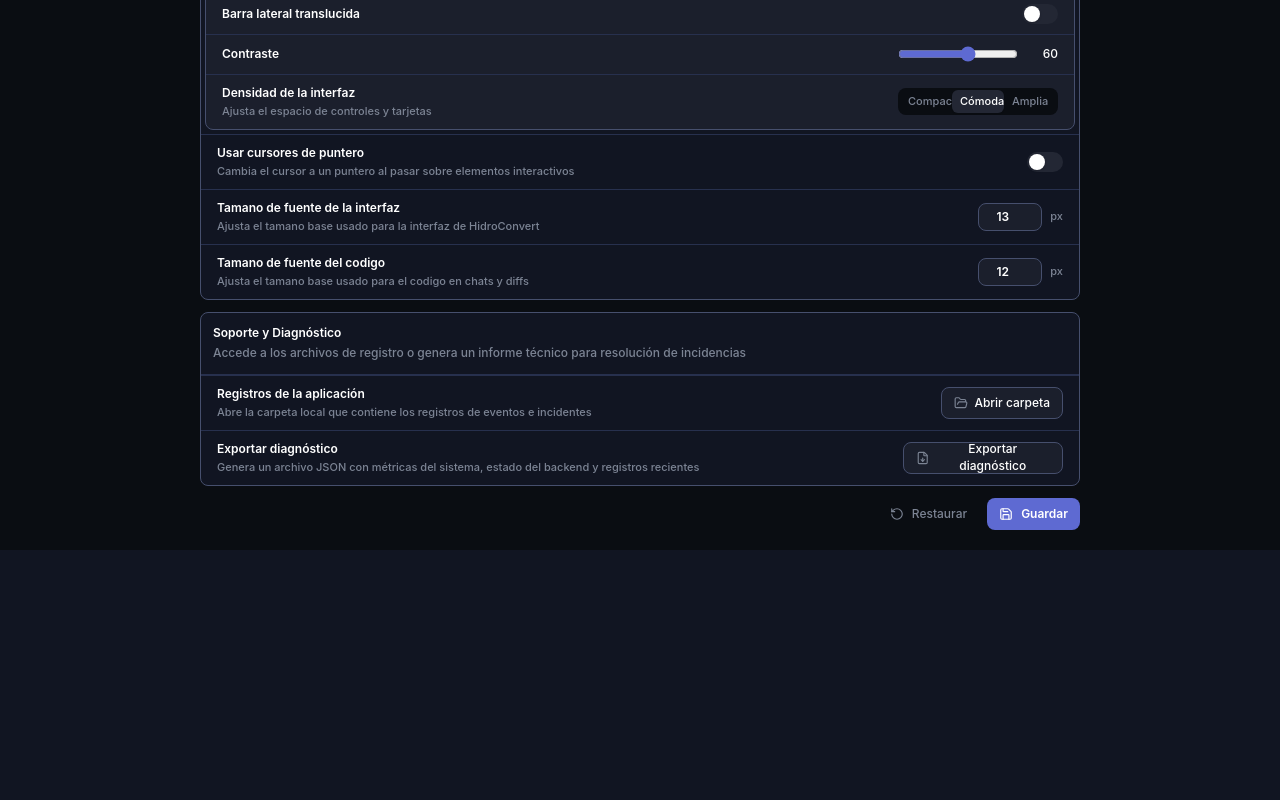
Test: AppearanceView › shows a translated saved alert instead of the i18n key
(page scrolled)
Click the button "Guardar".
click(1034, 514)  # box x1=987 y1=498 x2=1080 y2=530
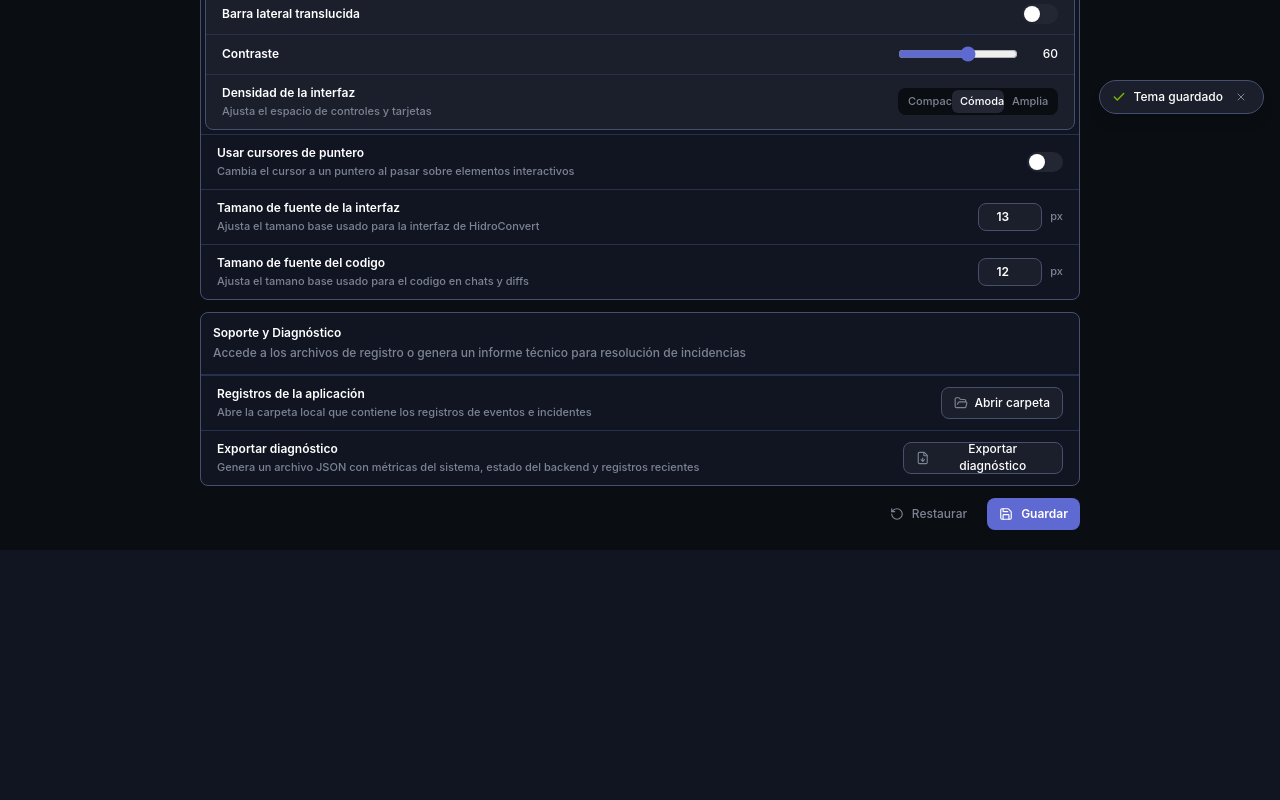
Result: the message reads "Tema guardado" at x1=1134 y1=89 x2=1223 y2=104
